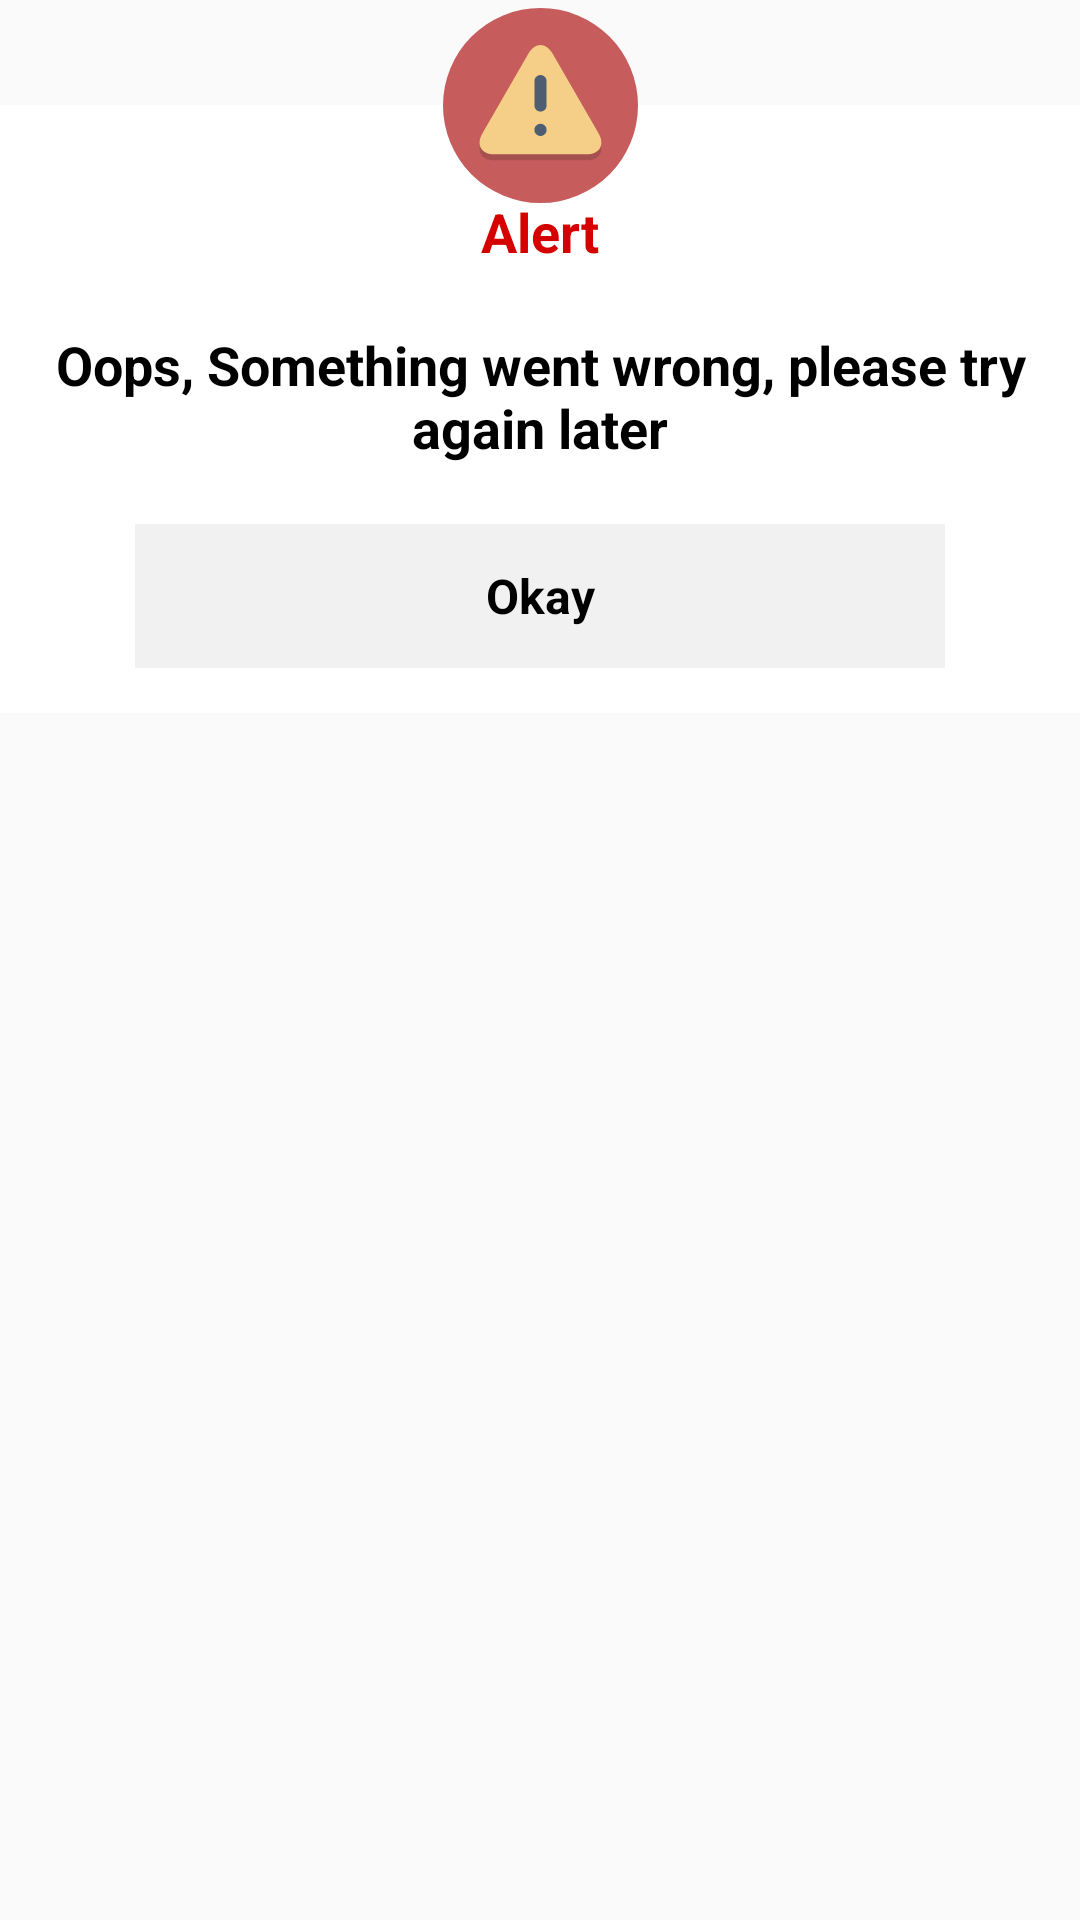

Point at icon controls on the screen. Image size 1080 x 1920, points as (x,y).
error: (540,105)
